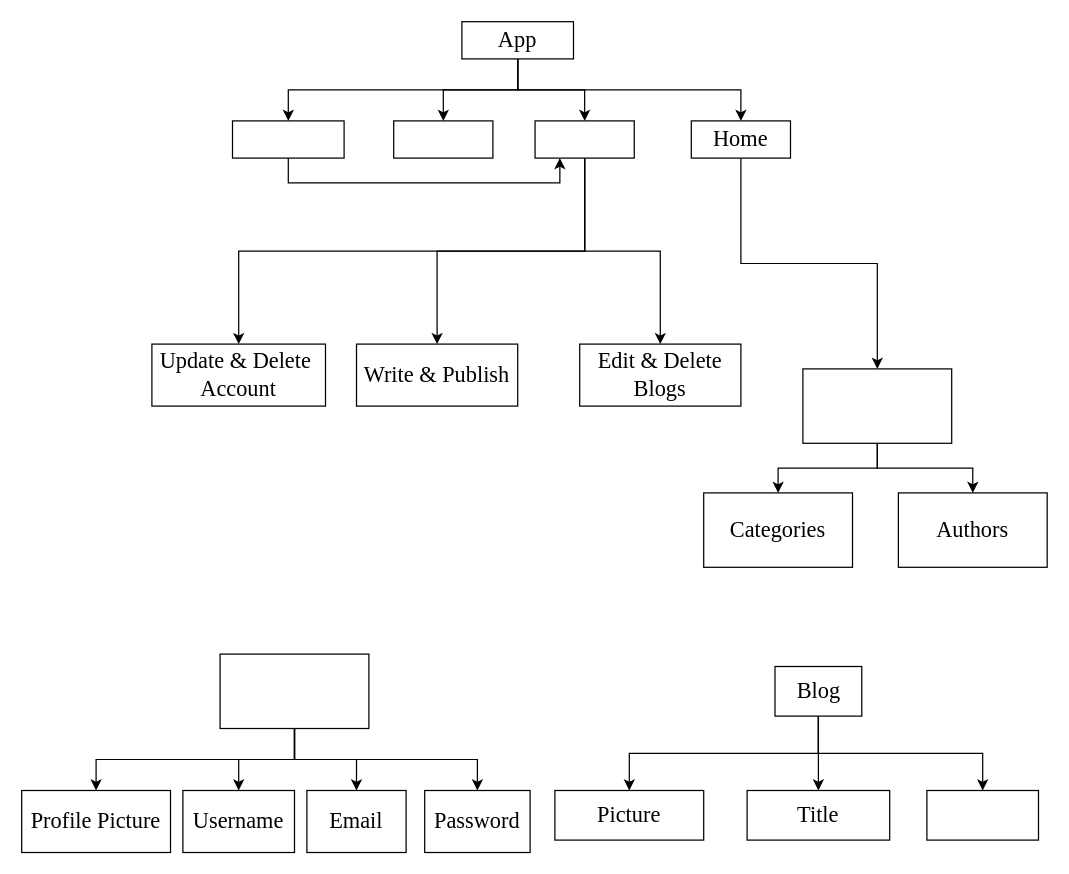
The diagram is 1069 pixels wide and 874 high, and some of its shapes have lost their labels. Here are the shapes that lost their labels. From the top down, the centre of each, then its label:
At (x=287, y=139): "Register".
At (x=442, y=139): "About".
At (x=584, y=139): "Login".
At (x=877, y=405): "Blogs".
At (x=294, y=690): "Account".
At (x=982, y=814): "Content".
